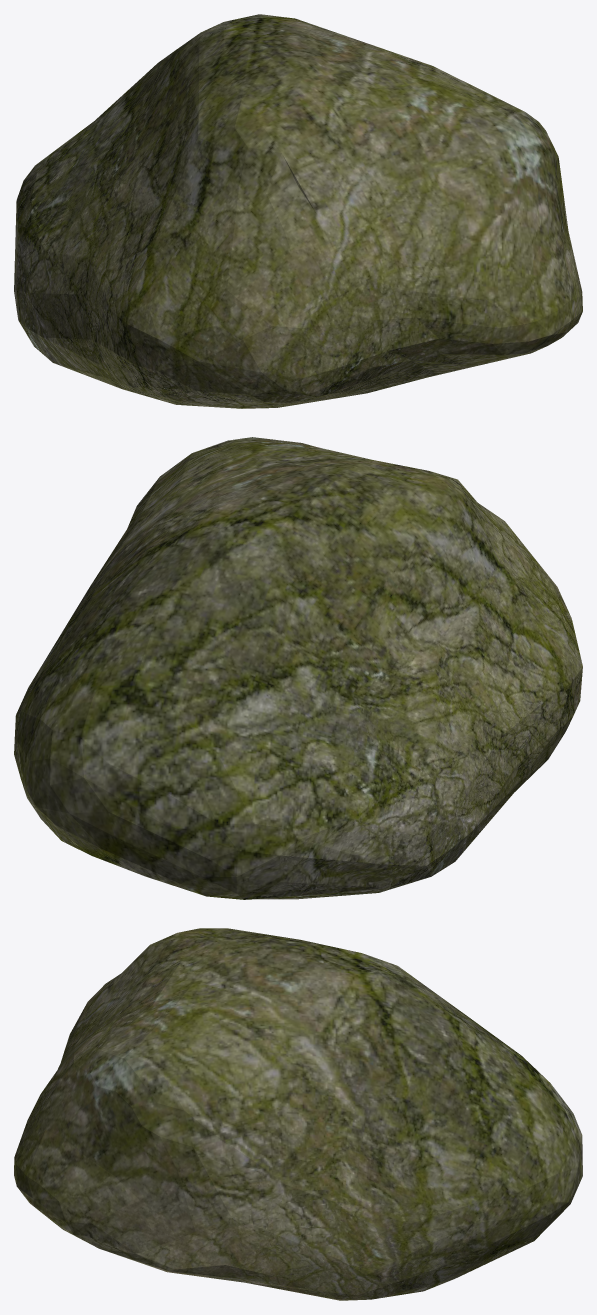
The model's file is Rock.002.obj.
3 views of the same model, one above another, from view 1: azimuth 30°, elevation 25°; view 2: azimuth 150°, elevation 25°; view 3: azimuth 270°, elevation 25° (orthographic). The views are drawn at different scales.
Parts seen in each view (by area): view 1: Rock.002_Icosphere.002; view 2: Rock.002_Icosphere.002; view 3: Rock.002_Icosphere.002.
Boxes of the visible parts, x1,y1,x2,y2 form: Rock.002_Icosphere.002: (14, 14, 582, 408); Rock.002_Icosphere.002: (14, 437, 582, 899); Rock.002_Icosphere.002: (14, 928, 582, 1300).
Bounding box in the file's own units: 5.55 × 3.93 × 7.13.
